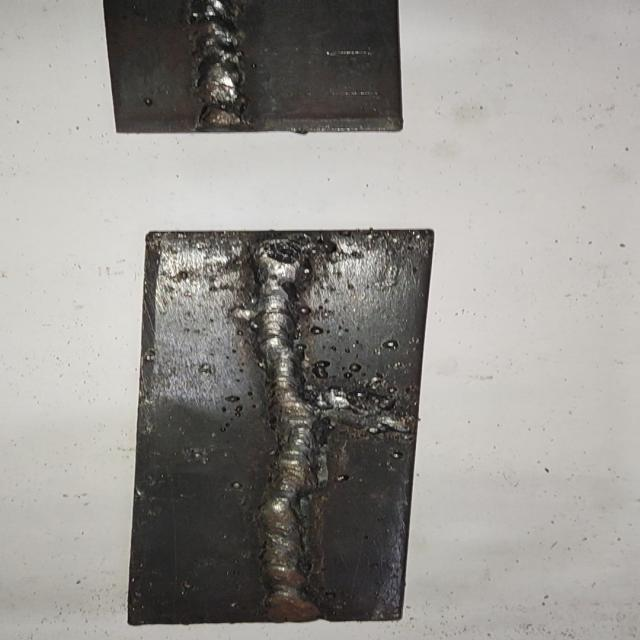Defect: (256, 380, 414, 438), (238, 234, 332, 272)
Welding Line: (250, 236, 314, 616), (190, 0, 250, 126)
Workpiece: (123, 226, 442, 626), (101, 0, 411, 137)
